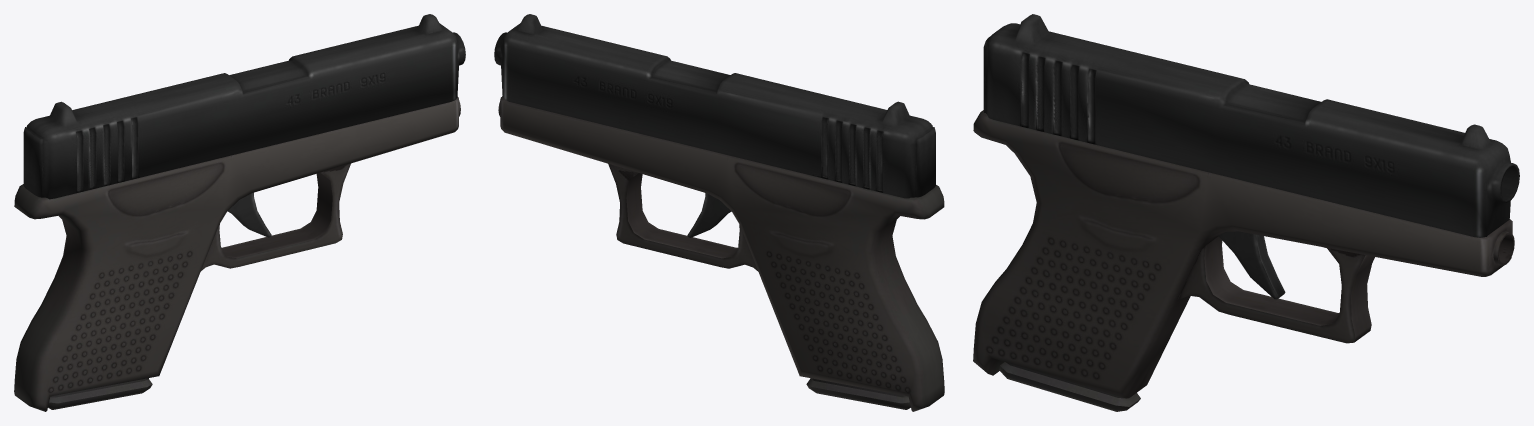
The model's file is pew.glb.
3 renders of one model, left to right at view 1: azimuth 30°, elevation 25°; view 2: azimuth 150°, elevation 25°; view 3: azimuth 330°, elevation 25°, orthographic. The views are drawn at different scales.
Parts seen in each view (by area): view 1: pew, pewhaut, pewmagazine, pewtrigger; view 2: pew, pewhaut, pewmagazine, pewtrigger; view 3: pew, pewhaut, pewmagazine, pewtrigger.
Part boxes in pixels (x1,y1,x2,y2): pew: [14, 97, 460, 411]; pewhaut: [23, 14, 465, 199]; pewmagazine: [48, 378, 152, 409]; pewtrigger: [227, 192, 271, 237]; pew: [498, 96, 944, 411]; pewhaut: [494, 14, 935, 198]; pewmagazine: [806, 378, 910, 409]; pewtrigger: [687, 193, 731, 237]; pew: [973, 110, 1514, 398]; pewhaut: [983, 14, 1519, 237]; pewmagazine: [999, 362, 1140, 411]; pewtrigger: [1218, 231, 1285, 299].
Bounding box in the file's own units: 0.137 × 0.0914 × 0.0128.
1 material, 1 textured.
